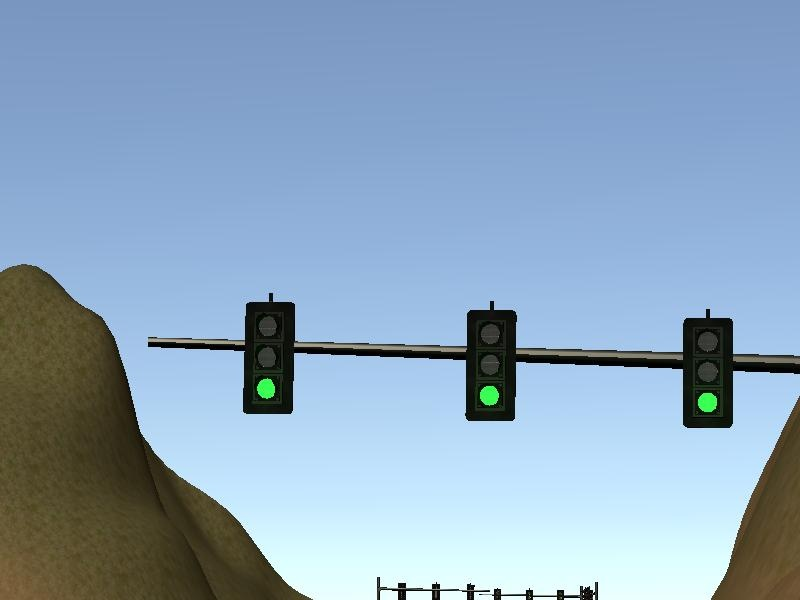green: (463, 303, 522, 432), (678, 312, 737, 433), (241, 297, 297, 421)
